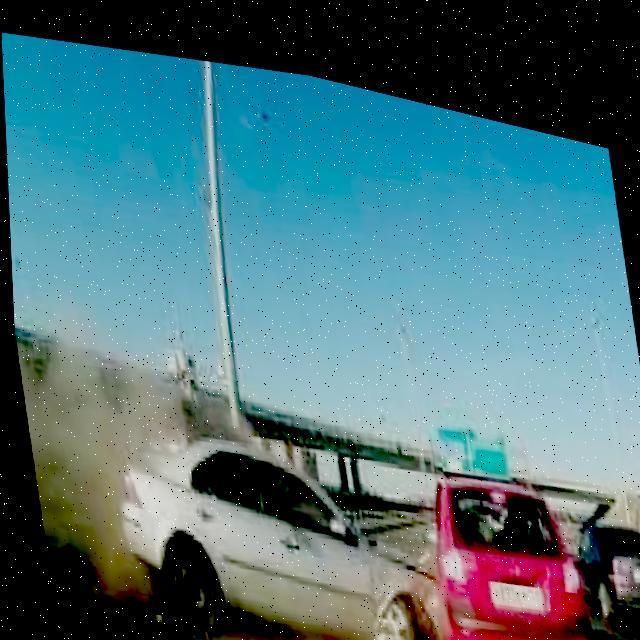Car Accident Detector - v4 Generation1 Exported: (87, 338, 618, 640)
